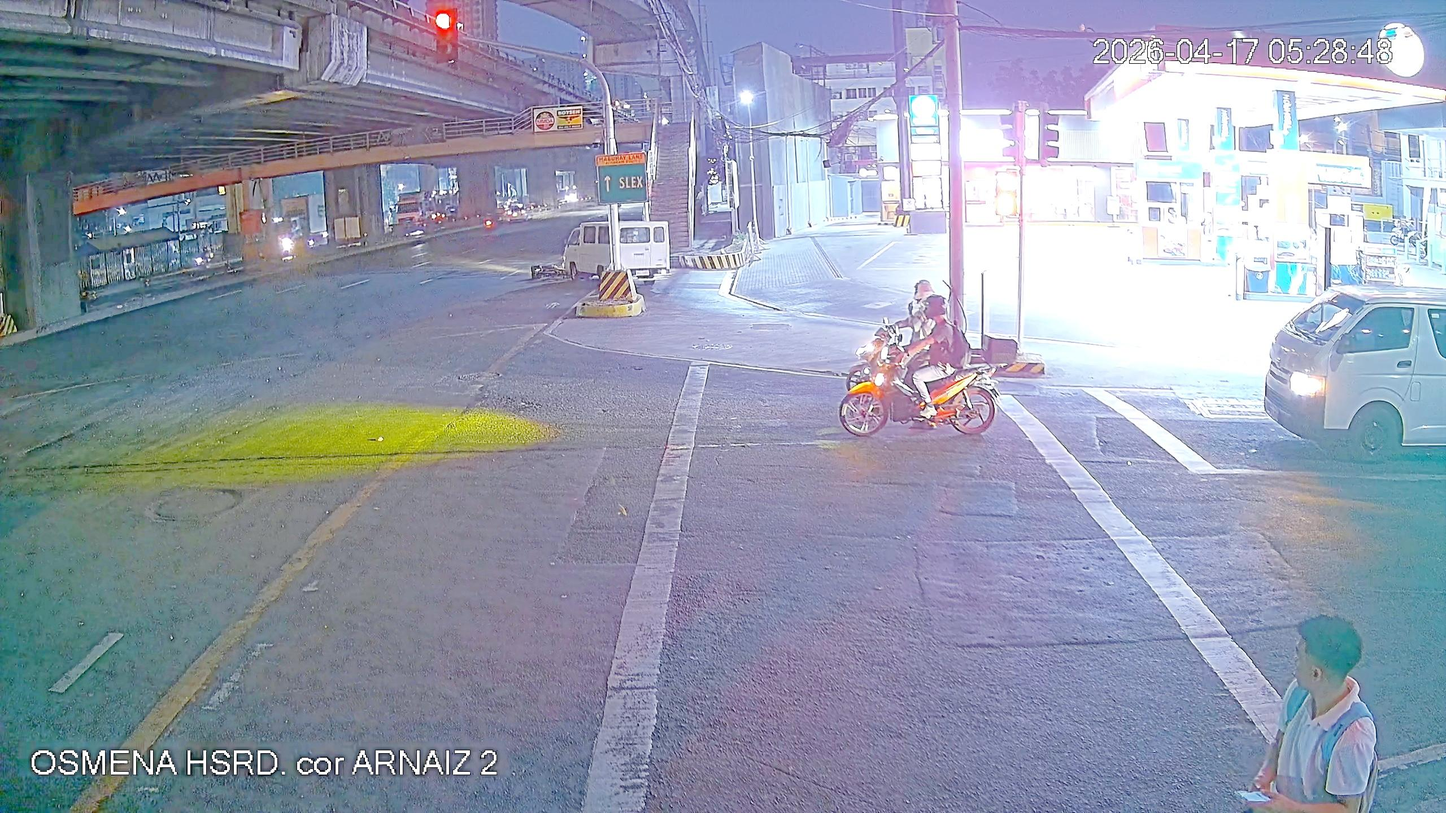Car: (1260, 277, 1446, 460), (562, 219, 672, 283)
Minor Accident: (527, 218, 670, 282)
Motor: (847, 350, 991, 446), (851, 320, 921, 388), (530, 261, 567, 280)
